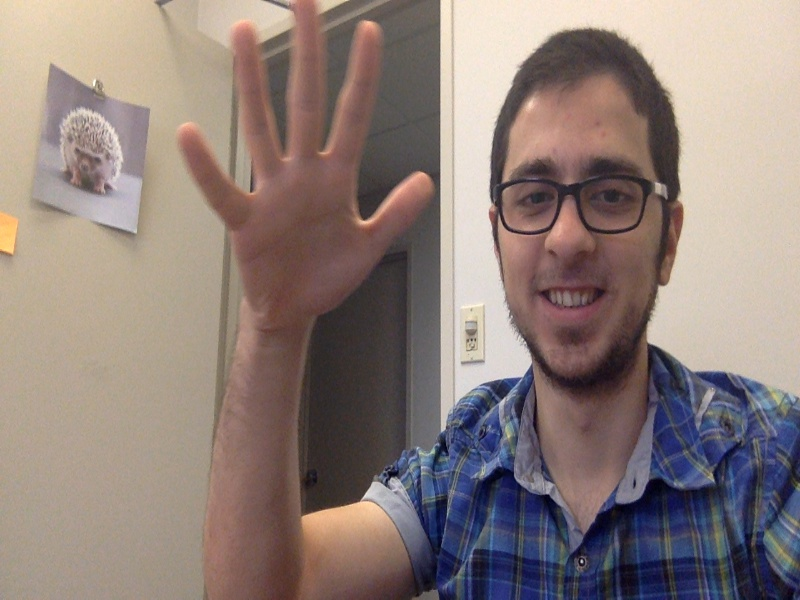5-hand: (173, 2, 432, 335)
